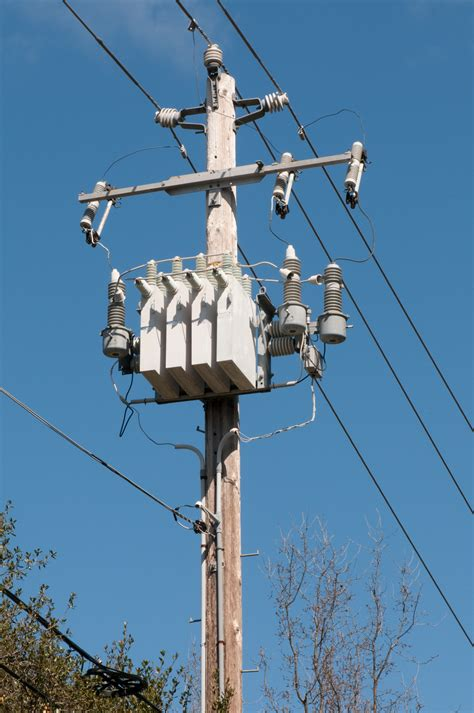pole: (67, 48, 366, 700)
